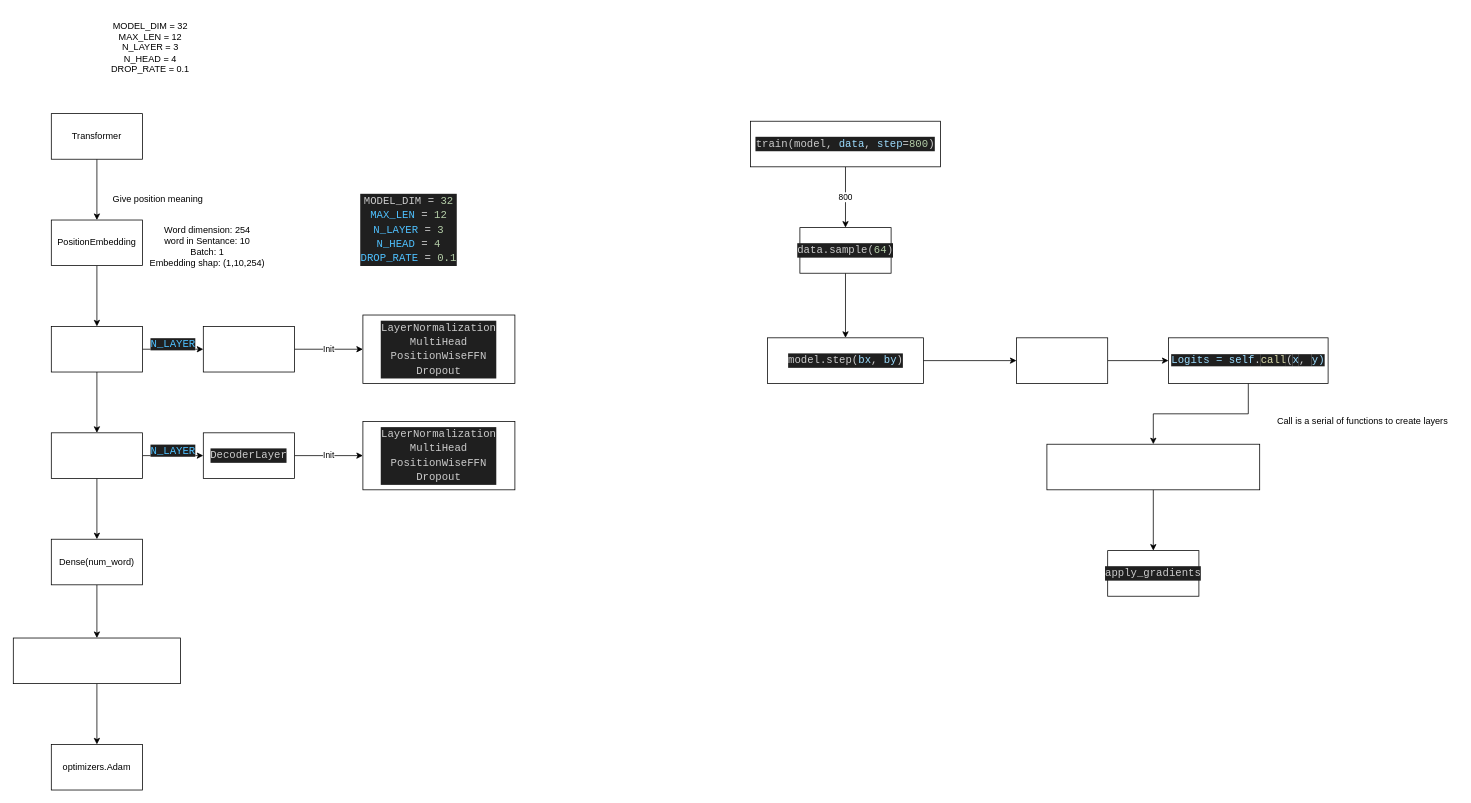
Image size: 1471x803. Some labels were removed from this diagram. The shapes that lost their labels are listed below. From the top down, each one's centre as x and y in pixels, then its label:
At point (96, 349): "Encoder".
At point (248, 349): "EncodeLayer".
At point (1062, 360): "GradientTape".
At point (96, 455): "Decoder".
At point (1153, 466): "loss = tf .reduce_mean(Logits,mask)".
At point (96, 660): "SparseCategoricalCrossentropy".
